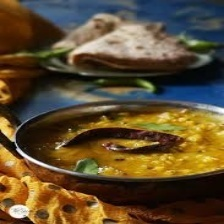roti: (45, 11, 198, 69)
